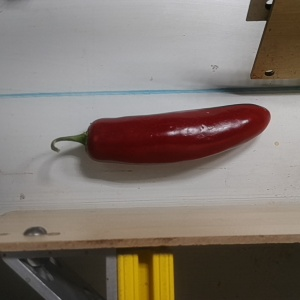Cut Point: (75, 117, 106, 163)
